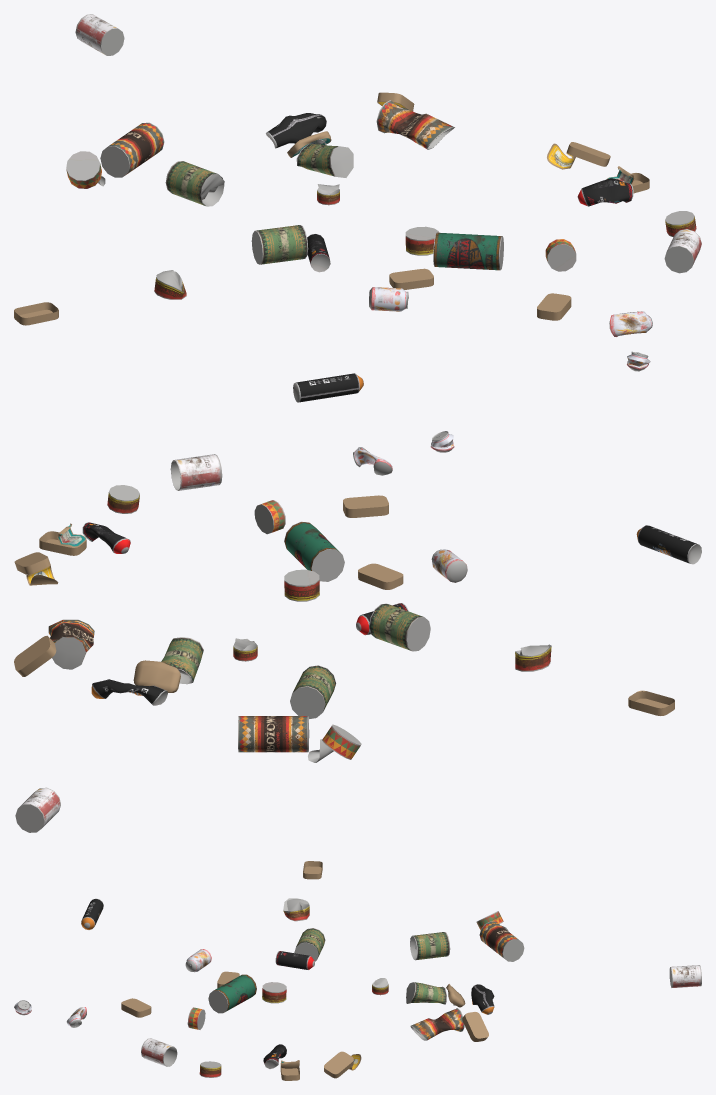
File: SM_TrashSet_04_B.fbx
3 renders of one model, top to bottom at view 1: azimuth 30°, elevation 25°; view 2: azimuth 150°, elevation 25°; view 3: azimuth 270°, elevation 25°, orthographic. The views are drawn at different scales.
Visible parts, largest first — view 1: SM_TrashSet_04_B; view 2: SM_TrashSet_04_B; view 3: SM_TrashSet_04_B.
Boxes of the visible parts, x1,y1,x2,y2 form: SM_TrashSet_04_B: (14,14,701,402); SM_TrashSet_04_B: (14,431,701,832); SM_TrashSet_04_B: (14,861,701,1080).
Size of the model in its own units: 227 by 307 by 12.33.
1 material, 1 textured.
